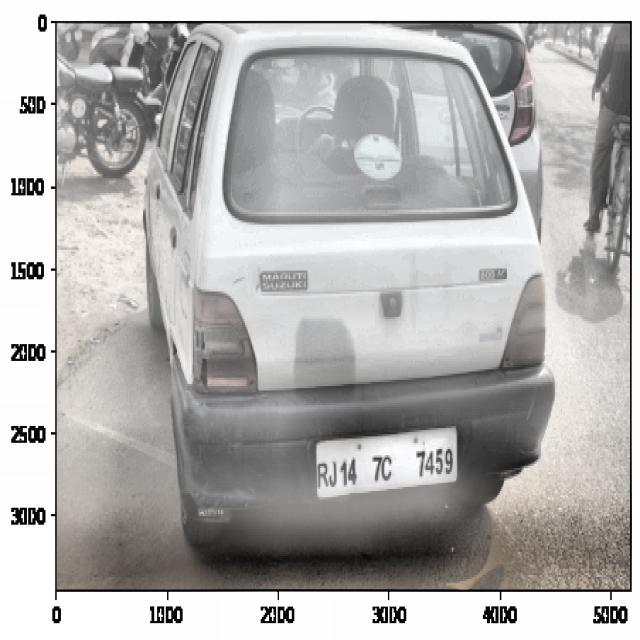license_plate: (314, 444, 462, 491)
